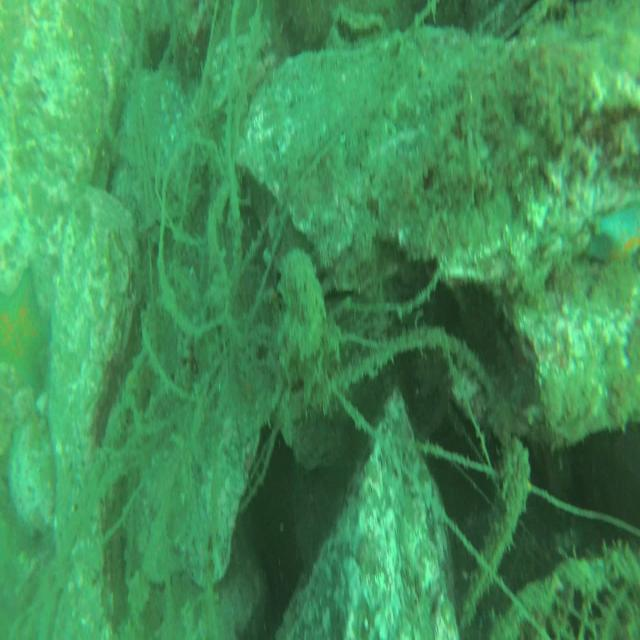starfish: (0, 253, 57, 398), (587, 204, 640, 277)
